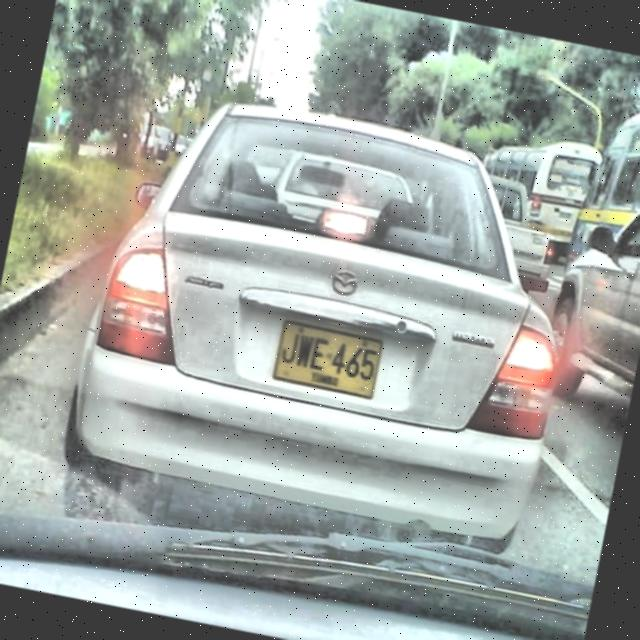plate: (272, 320, 384, 400)
